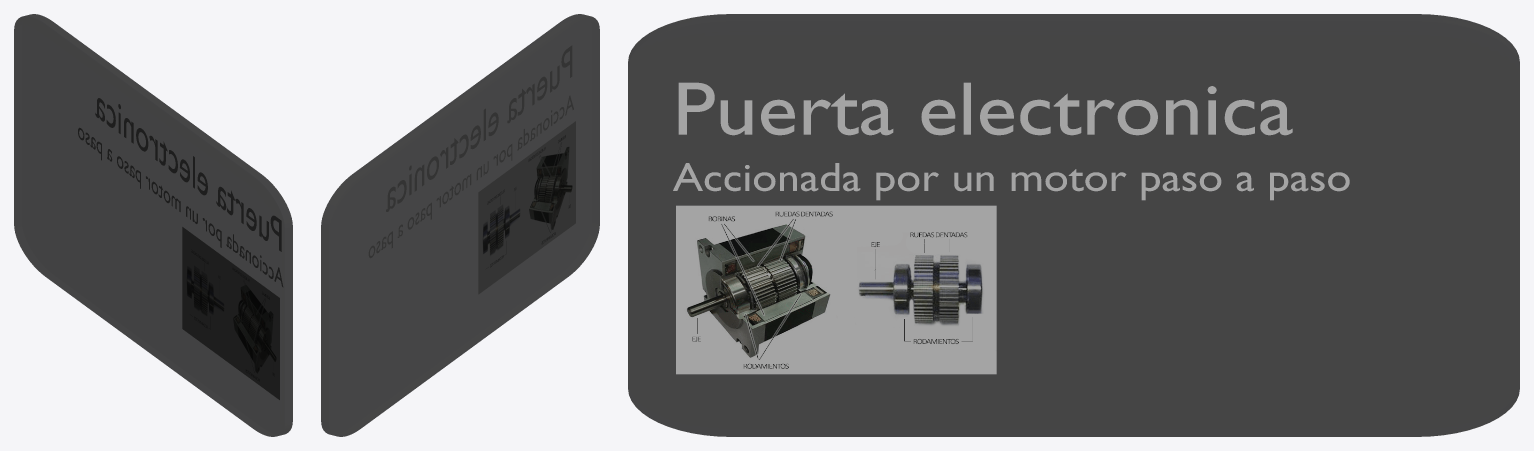
Rendered from HouseDoorAdvertisement.glb.
3 views of the same model, side by side, from view 1: azimuth 30°, elevation 25°; view 2: azimuth 150°, elevation 25°; view 3: azimuth 270°, elevation 25° (orthographic). The views are drawn at different scales.
Parts seen in each view (by area): view 1: Cube, arduino-paso-a-paso-interior, Text, Text.001; view 2: Cube, arduino-paso-a-paso-interior, Text, Text.001; view 3: Cube, arduino-paso-a-paso-interior, Text, Text.001.
Part boxes in pixels (x1=…): Cube: x1=14, y1=14, x2=292, y2=436; arduino-paso-a-paso-interior: x1=182, y1=227, x2=279, y2=399; Text: x1=95, y1=98, x2=281, y2=251; Text.001: x1=78, y1=128, x2=282, y2=286; Cube: x1=321, y1=14, x2=599, y2=436; arduino-paso-a-paso-interior: x1=478, y1=121, x2=575, y2=293; Text: x1=386, y1=46, x2=571, y2=211; Text.001: x1=369, y1=96, x2=573, y2=257; Cube: x1=628, y1=14, x2=1519, y2=436; arduino-paso-a-paso-interior: x1=676, y1=205, x2=996, y2=374; Text: x1=678, y1=82, x2=1292, y2=135; Text.001: x1=673, y1=163, x2=1349, y2=200.
Size of the model in its own units: 0.1619 by 2.93 by 5.7.
Materials: 4 (1 with a texture image).
